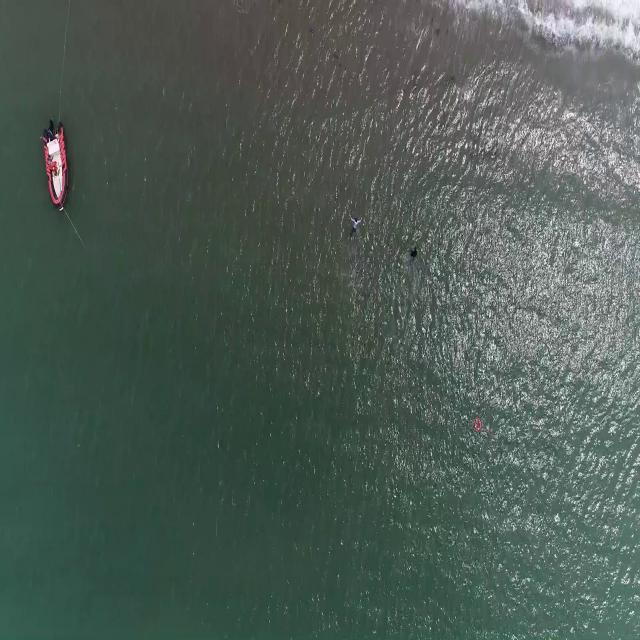boat: (39, 119, 69, 208)
life_buoy: (474, 418, 482, 432)
person: (349, 213, 362, 238), (409, 243, 418, 262)
